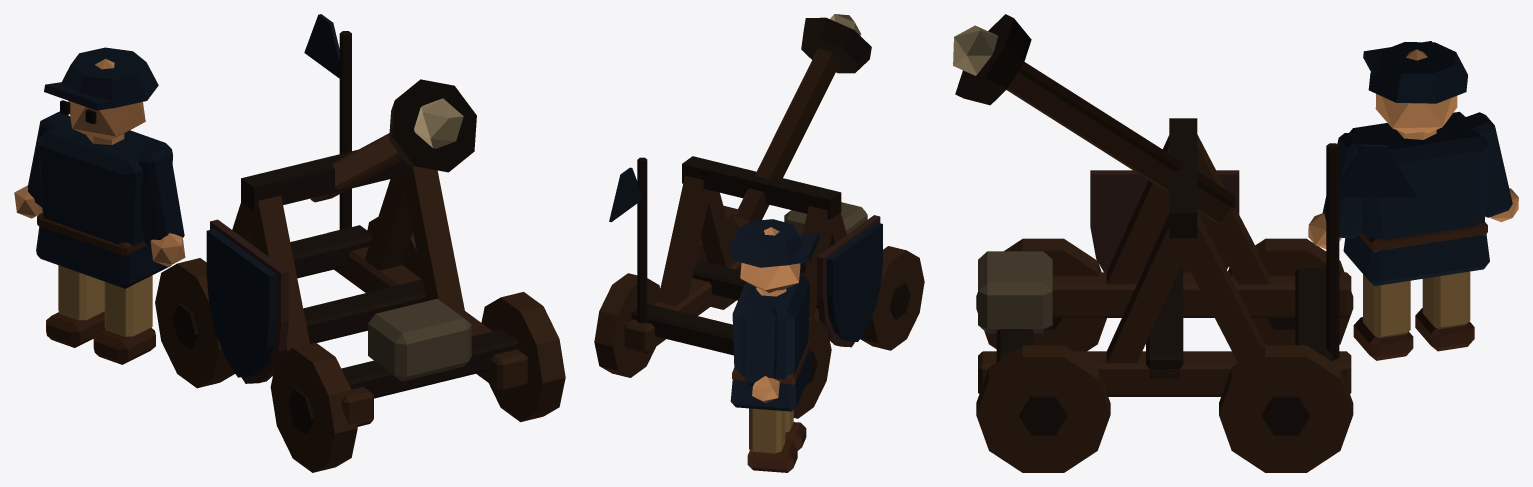
Rendered from catapult.obj.
The picture shows the model from 3 angles, left to right: view 1: azimuth 30°, elevation 25°; view 2: azimuth 150°, elevation 25°; view 3: azimuth 270°, elevation 25°; orthographic projection. The views are drawn at different scales.
Visible parts, largest first — view 1: body, crew, arm; view 2: body, crew, arm; view 3: body, crew, arm.
Boxes of the visible parts, x1,y1,x2,y2 form: body: (155, 14, 565, 472); crew: (14, 47, 185, 364); arm: (310, 79, 476, 202); body: (594, 156, 924, 418); crew: (728, 219, 819, 472); arm: (733, 14, 871, 228); body: (976, 118, 1416, 472); crew: (1308, 41, 1518, 360); arm: (953, 14, 1235, 224).
Bounding box in the file's own units: 0.4003 × 0.4642 × 0.6063.
